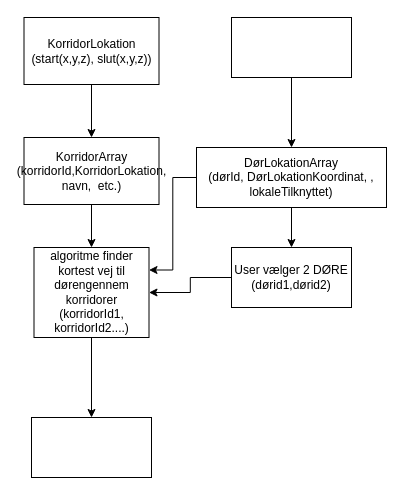
This 404x495 diagram has some shape labels left out. The box of each missing label's shape, as (x1, y1, x2, y2) in pixels:
DørLokation (x,y,z): (230, 16, 352, 78)
konsoloutput af trin af ruten: (30, 416, 152, 478)
